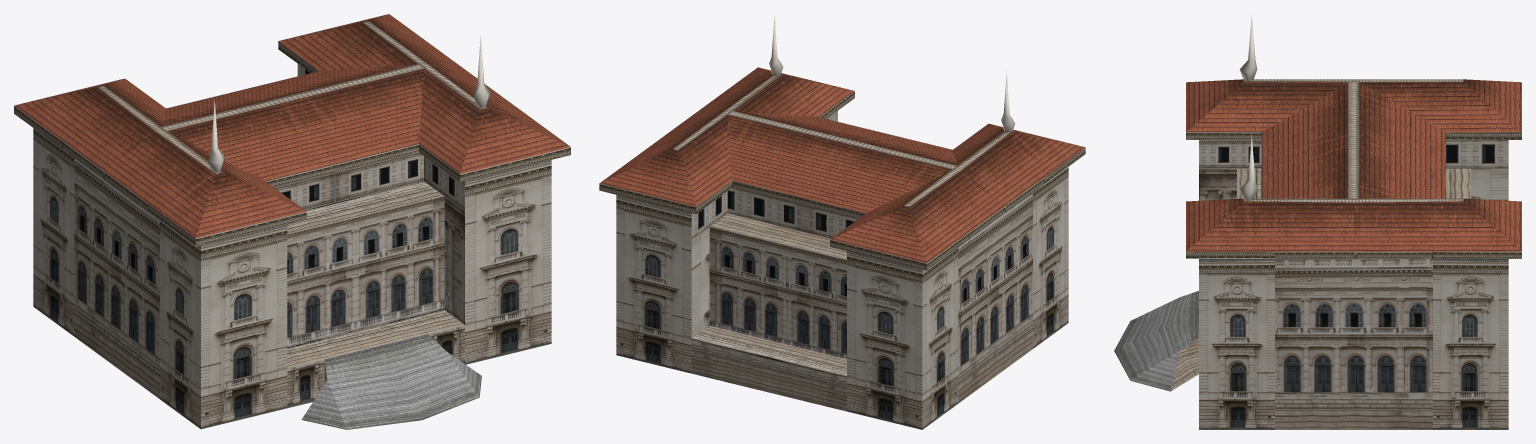
The model's file is SM_Building_Governor_Palace.fbx.
3 views of the same model, side by side, from view 1: azimuth 30°, elevation 25°; view 2: azimuth 150°, elevation 25°; view 3: azimuth 270°, elevation 25° (orthographic). The views are drawn at different scales.
Visible parts, largest first — view 1: SM_Building_Governor_Palace; view 2: SM_Building_Governor_Palace; view 3: SM_Building_Governor_Palace.
Boxes of the visible parts, x1=… form: SM_Building_Governor_Palace: x1=14, y1=14, x2=570, y2=429; SM_Building_Governor_Palace: x1=599, y1=16, x2=1085, y2=429; SM_Building_Governor_Palace: x1=1114, y1=14, x2=1521, y2=429.
Bounding box in the file's own units: 49.13 × 37.48 × 50.02.
